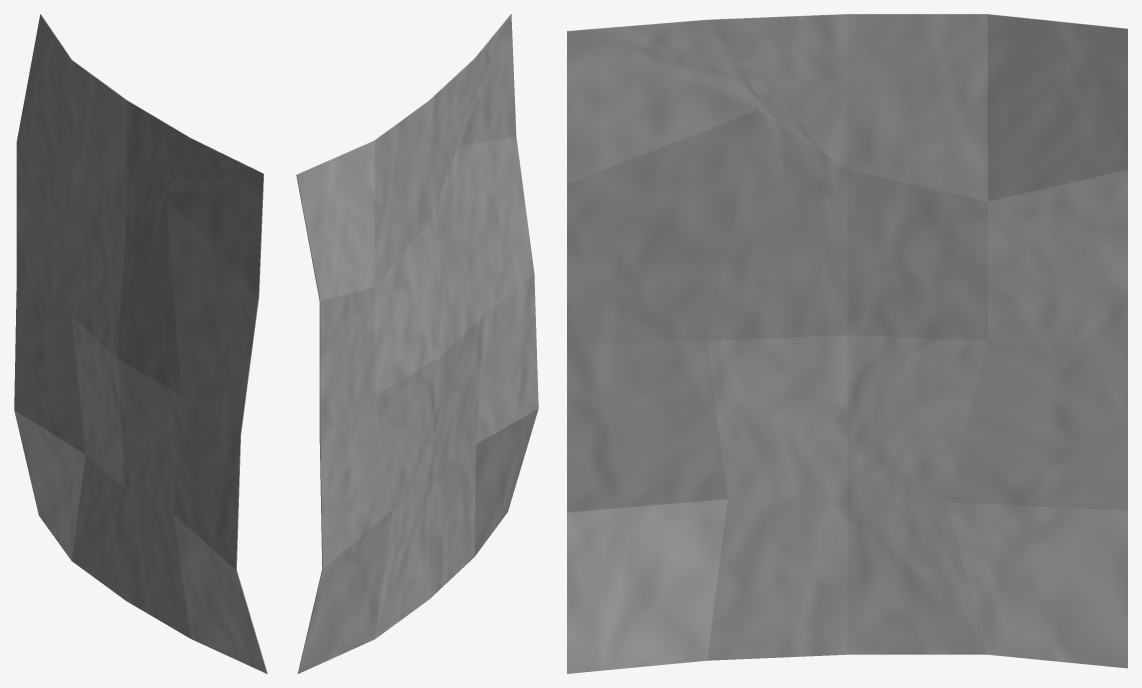
The model's file is PAPER.glb.
3 renders of one model, left to right at view 1: azimuth 30°, elevation 25°; view 2: azimuth 150°, elevation 25°; view 3: azimuth 270°, elevation 25°, orthographic. The views are drawn at different scales.
Visible parts, largest first — view 1: Plane; view 2: Plane; view 3: Plane.
Part boxes in pixels (x1=…): Plane: x1=14, y1=14, x2=267, y2=673; Plane: x1=296, y1=14, x2=538, y2=673; Plane: x1=567, y1=14, x2=1127, y2=673.
Size of the model in its own units: 0.0416 by 0.4816 by 0.3823.
1 material, 1 textured.
